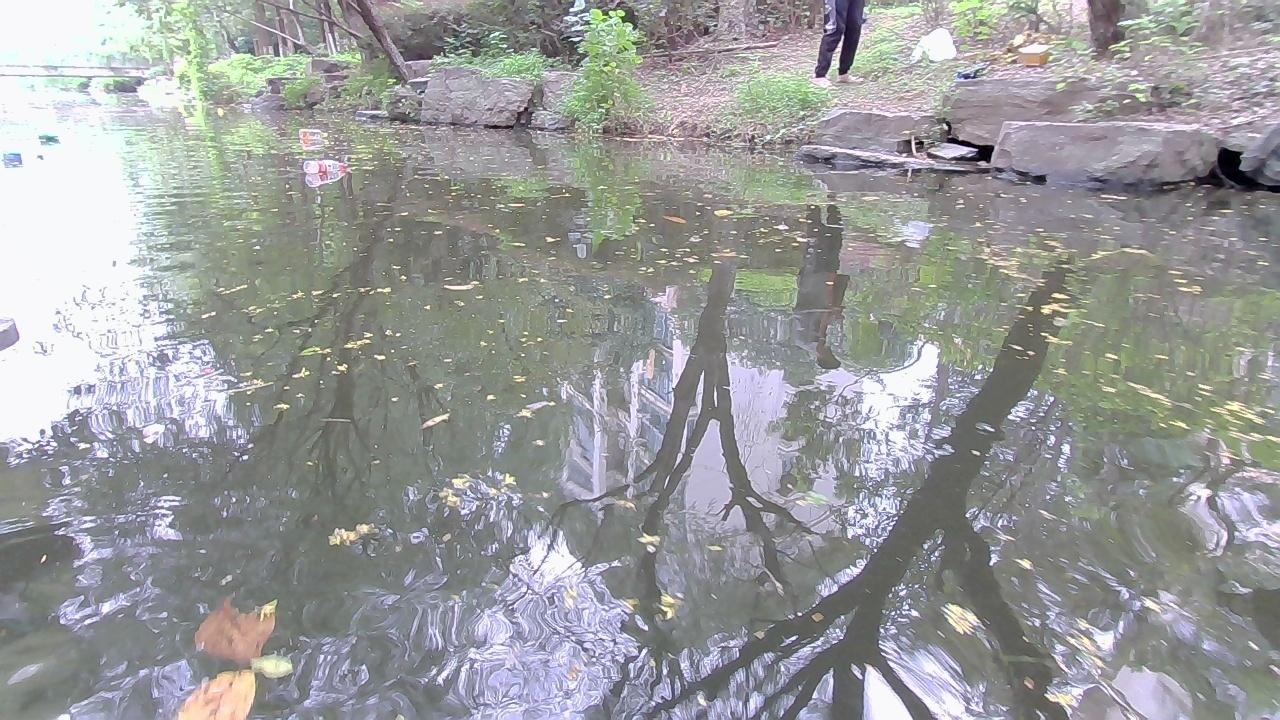bottle: (296, 154, 348, 178), (298, 125, 330, 142), (0, 150, 25, 166), (38, 130, 59, 145)
